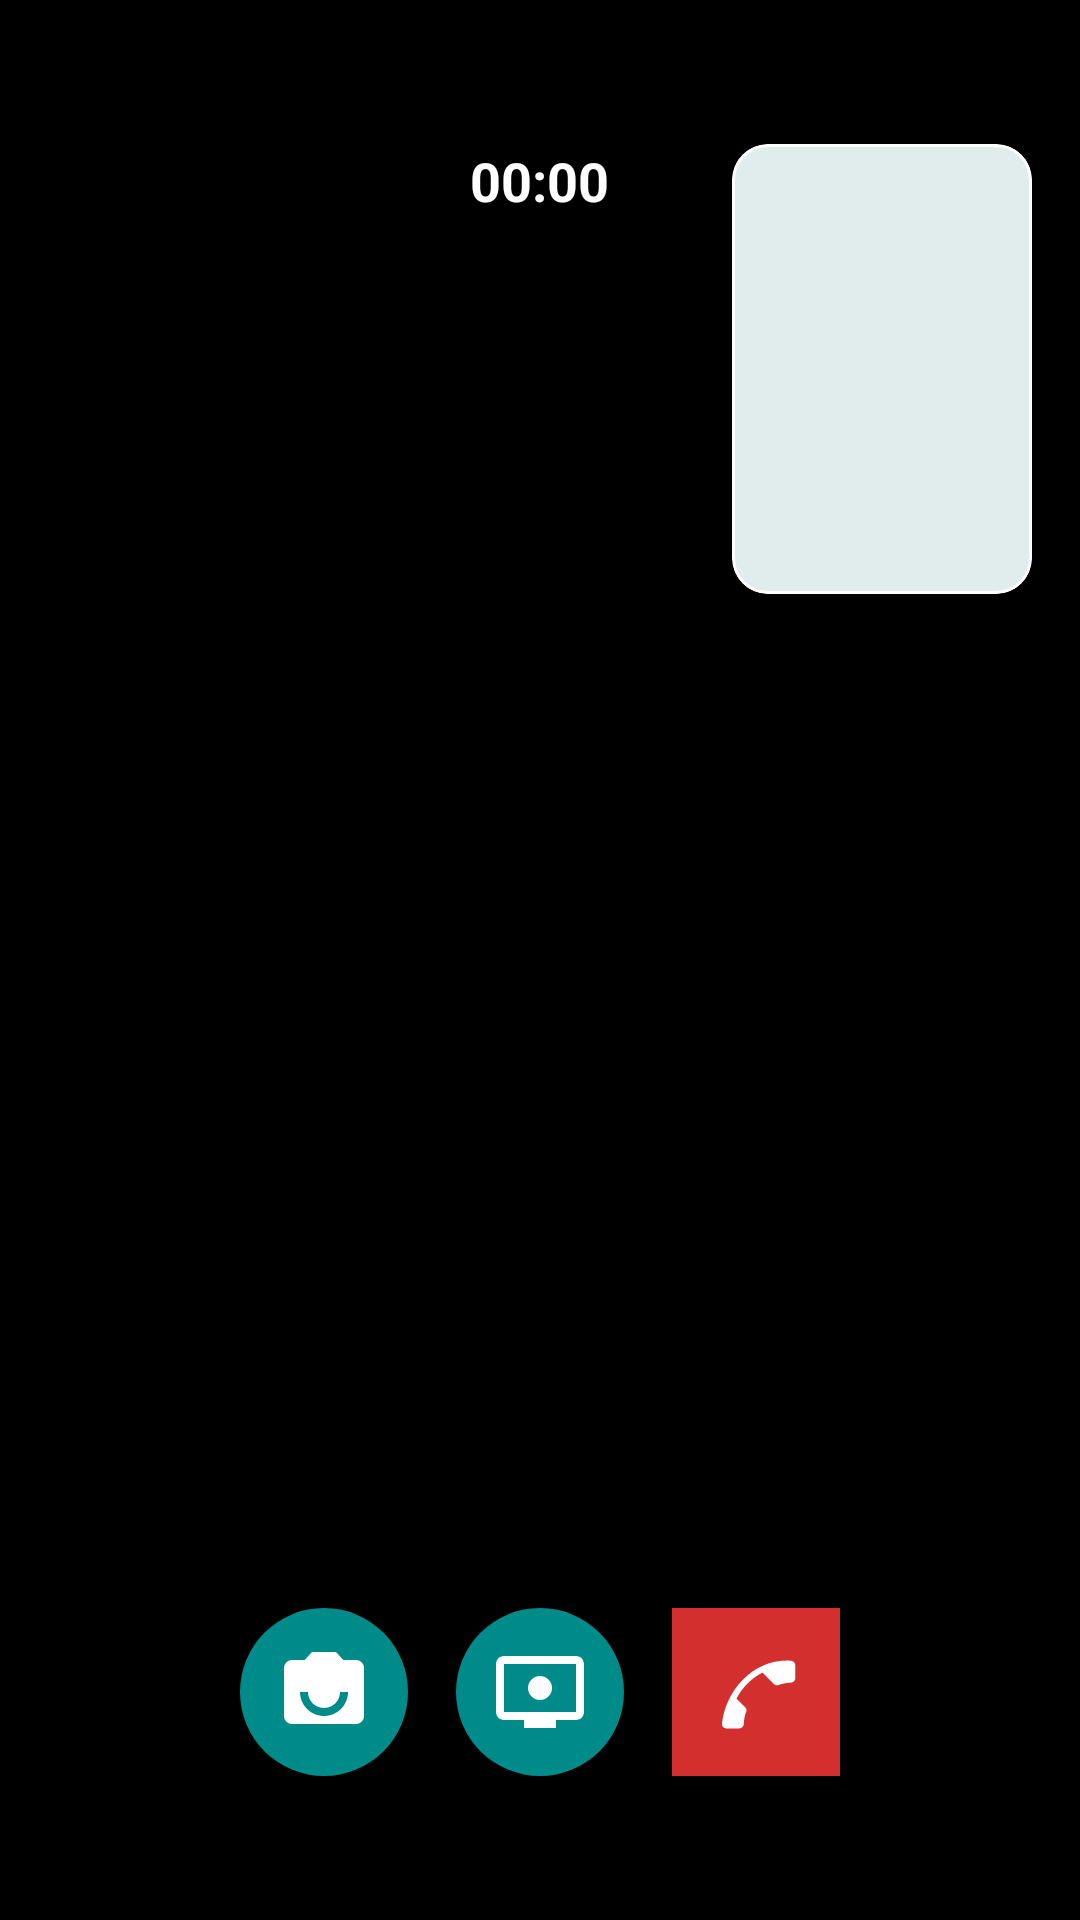

Where icons sit on this 1080×1920 app screen, as (x1, y1, x2, y2):
Cambiar cámara frontal y trasera: (240, 1608, 408, 1776)
Colgar llamada: (672, 1608, 840, 1776)
Iniciar videollamada con terminal: (456, 1608, 624, 1776)
